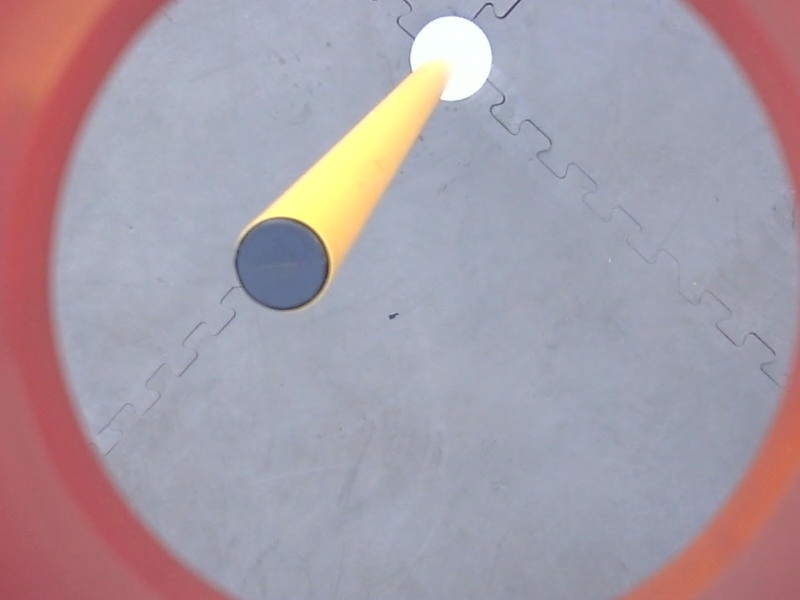tip: (225, 212, 343, 320)
